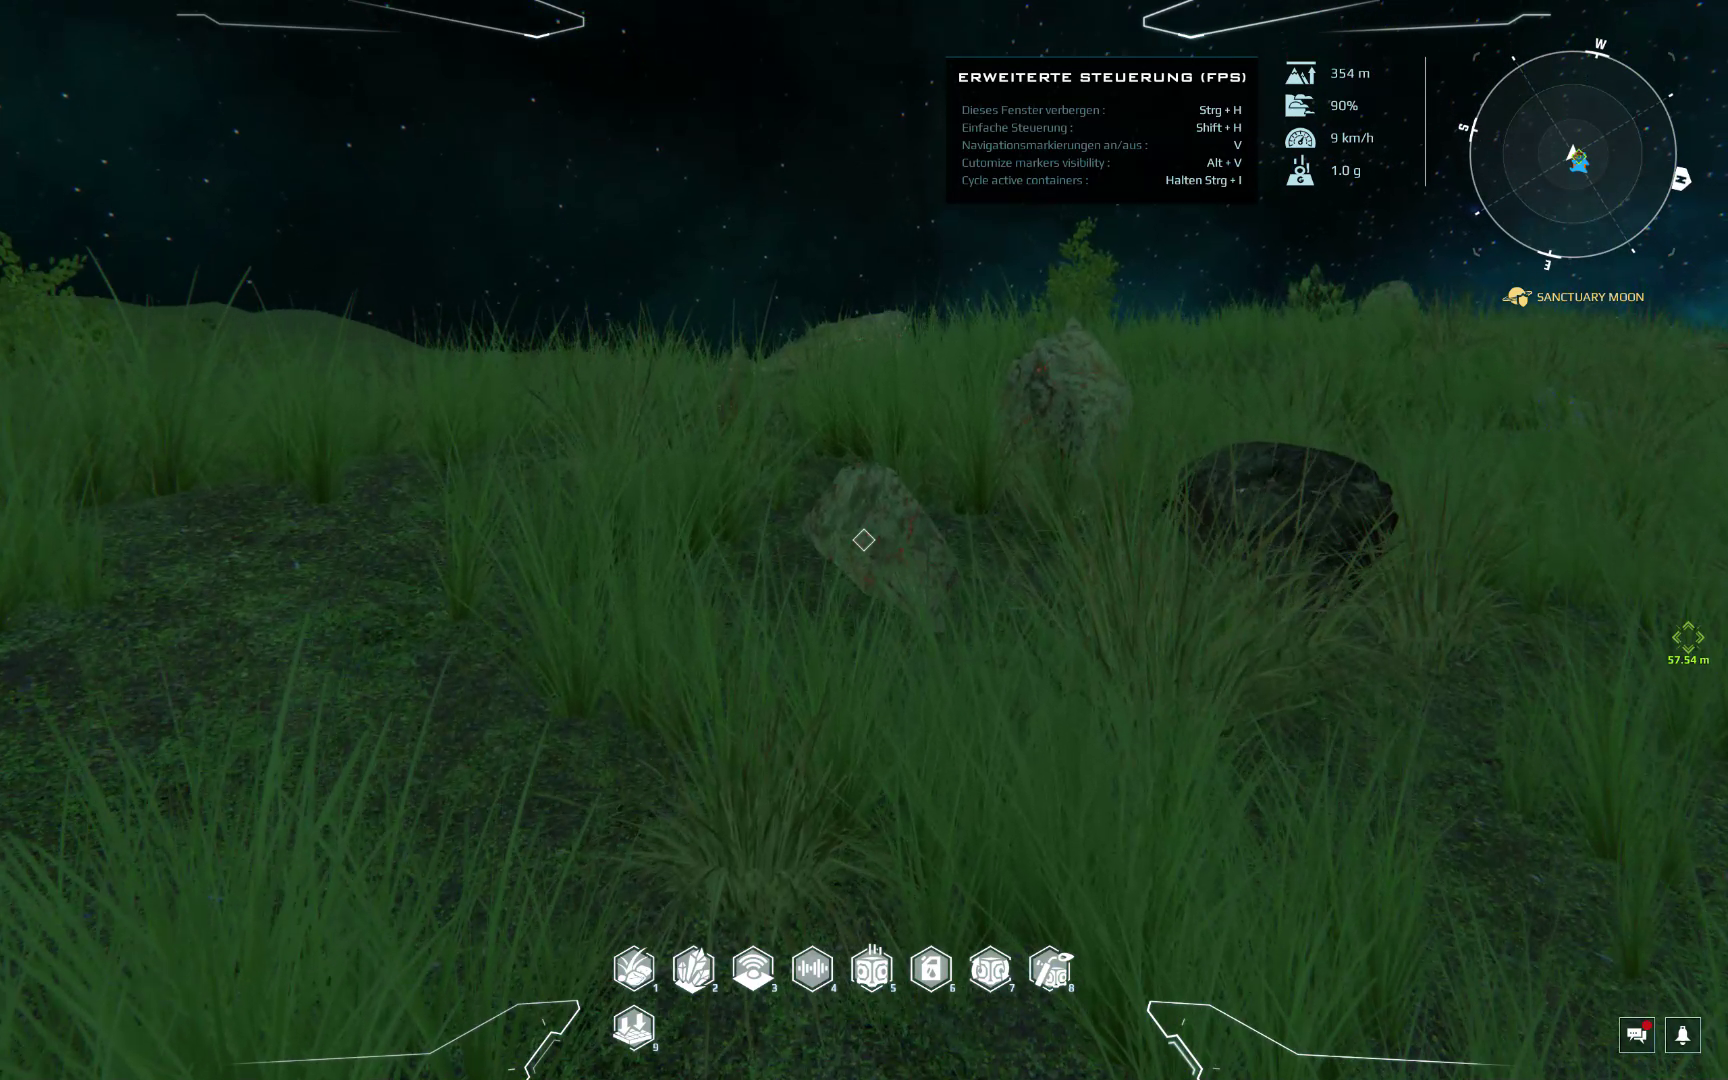Ore: (1174, 440, 1400, 586), (995, 320, 1133, 526), (802, 463, 957, 635), (765, 310, 909, 372)
